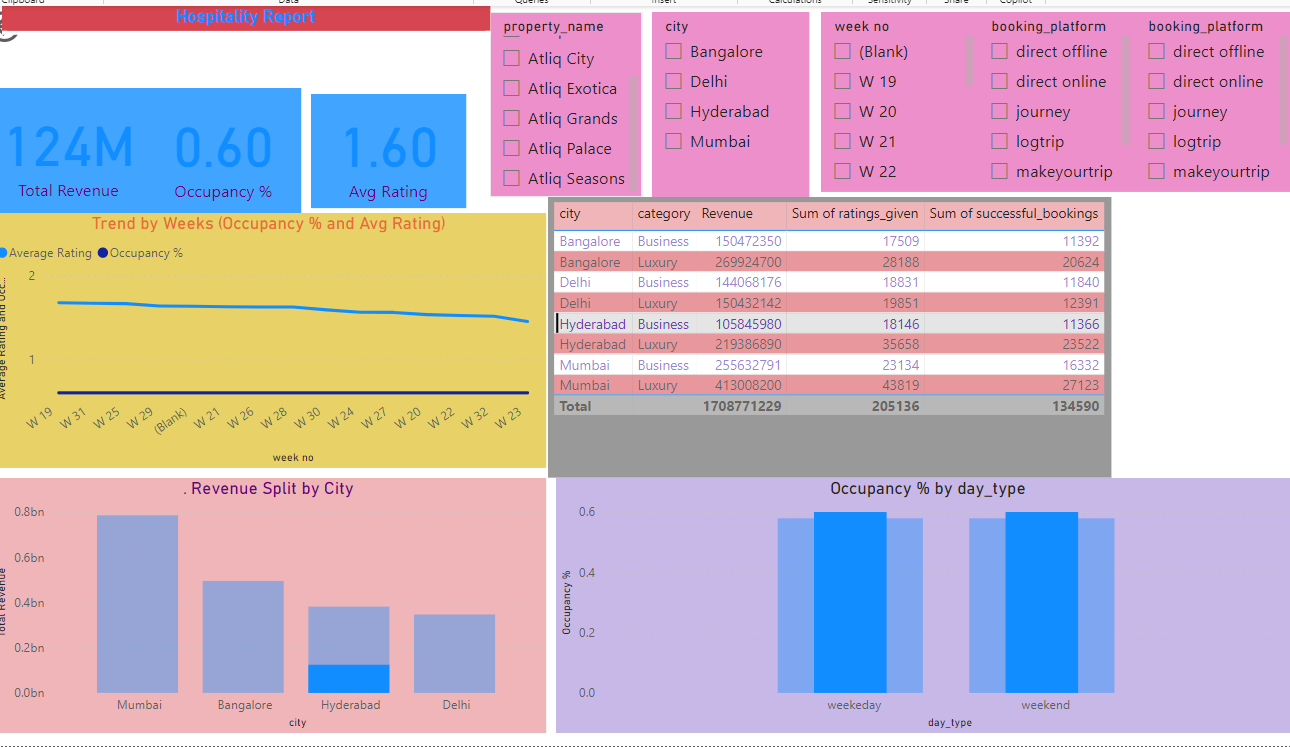

Layout of this report page (visuals, bound fields, positions):
{"tool":"powerbi","page":{"name":"Page 2","canvas":[1280,720],"ordinal":1},"visuals":[{"type":"card","fields":{"Values":["Measure.Revenue"]},"box":[96.7,117.9,144.5,86.9],"z":0},{"type":"card","fields":{"Values":["Measure.Occupancy %"]},"box":[254.5,118.8,128.6,85.1],"z":1000},{"type":"card","fields":{"Values":["Measure.Average Rating"]},"box":[399.9,116.2,129.5,86.9],"z":2000},{"type":"slicer","fields":{"Values":["dim_hotels.city"]},"box":[17.5,285,117.7,55.4],"z":3000},{"type":"slicer","fields":{"Values":["dim_hotels.property_name"]},"box":[18.5,359.9,117.7,56.4],"z":4000},{"type":"slicer","fields":{"Values":["fact_bookings.booking_status"]},"box":[18.5,445.5,117.7,56.4],"z":5000},{"type":"slicer","fields":{"Values":["fact_bookings.booking_platform"]},"box":[18.5,517.4,117.7,55.4],"z":6000},{"type":"slicer","fields":{"Values":["dim_date.Month Name"]},"box":[17.5,585.5,117.7,56.4],"z":7000},{"type":"slicer","fields":{"Values":["dim_date.day_type"]},"box":[18.5,652.6,117.7,56.4],"z":8000},{"type":"slicer","fields":{"Values":["dim_date.Year"]},"box":[18.5,219.8,117.7,51.6],"z":9000},{"type":"barChart","fields":{"Category":["dim_hotels.city"],"Y":["Measure.Revenue"]},"box":[169.4,219.9,360,187.1],"z":10000},{"type":"barChart","fields":{"Category":["dim_hotels.city"],"Y":["Measure.Occupancy %"]},"box":[540,211.9,357.3,195.1],"z":11000},{"type":"barChart","fields":{"Category":["dim_hotels.city"],"Y":["Measure.Average Rating"]},"box":[907.1,211.9,365.3,195.1],"z":12000},{"type":"barChart","fields":{"Category":["fact_bookings.booking_platform"],"Y":["Measure.Booking % by Platform"]},"box":[907.1,8,365.3,196],"z":13000},{"type":"barChart","fields":{"Category":["dim_date.day_type"],"Y":["Measure.Occupancy %"]},"box":[540,8,357.3,195.1],"z":14000},{"type":"lineChart","fields":{"Category":["dim_date.week no"],"Y":["Measure.Occupancy %"],"Y2":["Measure.Average Rating"]},"box":[158.5,432.8,524.3,276.2],"z":15000},{"type":"tableEx","fields":{"Values":["dim_hotels.category","dim_hotels.property_id","dim_hotels.city","Measure.Revenue","Measure.Occupancy %","Measure.Average Rating","Measure.Cancellation %"]},"box":[696.4,416.3,583.6,292.8],"z":16000},{"type":"textbox","box":[7.1,8,187.1,31.9],"z":16001},{"type":"image","box":[211,0,108.2,105.5],"z":16002}]}

Visuals, with their boxes on the page's 1280x720 design canvas (x1, y1, x2, y2). These are canvas units, not pixel positions in the 1290x747 screenshot, which may show the page scaled, cropped or inside an application window:
card - Measure.Revenue: 97/118/241/205
card - Measure.Occupancy %: 254/119/383/204
card - Measure.Average Rating: 400/116/529/203
slicer - dim_hotels.city: 18/285/135/340
slicer - dim_hotels.property_name: 18/360/136/416
slicer - fact_bookings.booking_status: 18/446/136/502
slicer - fact_bookings.booking_platform: 18/517/136/573
slicer - dim_date.Month Name: 18/586/135/642
slicer - dim_date.day_type: 18/653/136/709
slicer - dim_date.Year: 18/220/136/271
barChart - dim_hotels.city x Measure.Revenue: 169/220/529/407
barChart - dim_hotels.city x Measure.Occupancy %: 540/212/897/407
barChart - dim_hotels.city x Measure.Average Rating: 907/212/1272/407
barChart - fact_bookings.booking_platform x Measure.Booking % by Platform: 907/8/1272/204
barChart - dim_date.day_type x Measure.Occupancy %: 540/8/897/203
lineChart - dim_date.week no x Measure.Occupancy %: 158/433/683/709
tableEx - dim_hotels.category x dim_hotels.property_id: 696/416/1280/709
textbox: 7/8/194/40
image: 211/0/319/106
